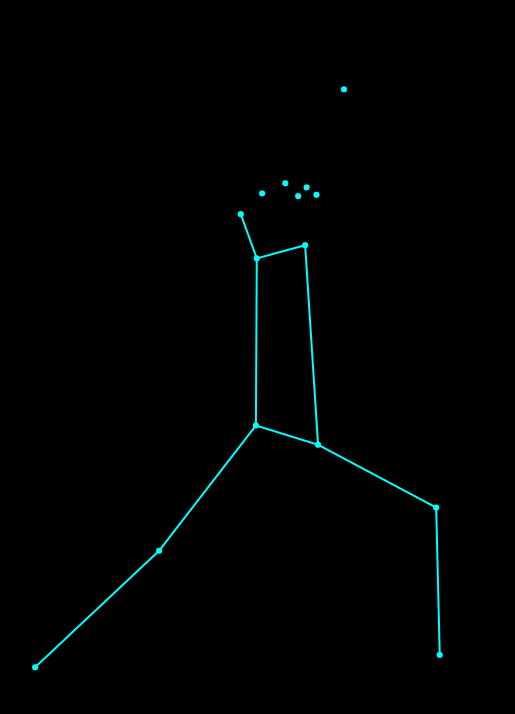warrior_1: (28, 43, 450, 677)
